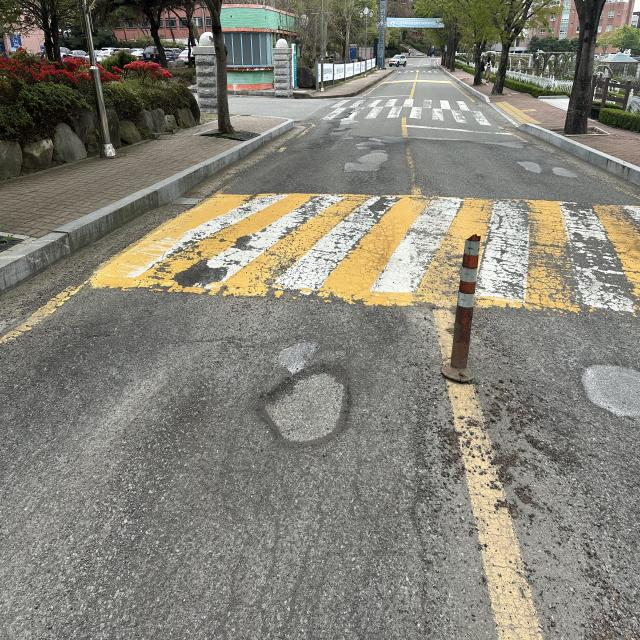pothole: (246, 338, 364, 468)
